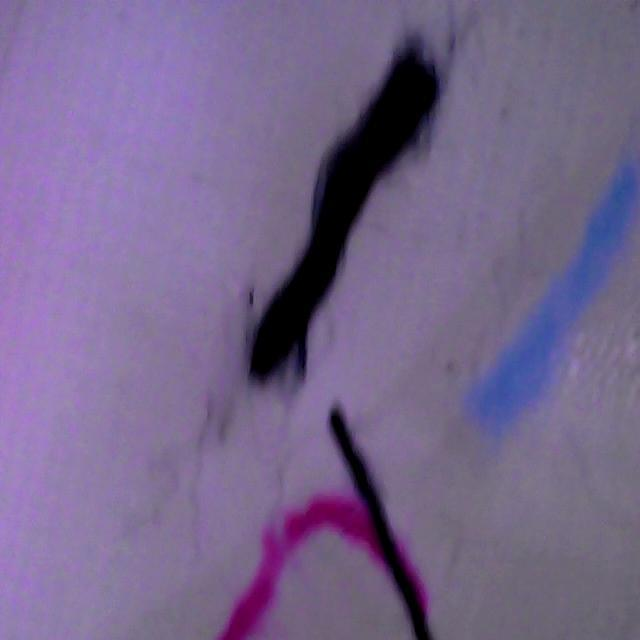fibers: (225, 32, 454, 394), (324, 405, 436, 640), (1, 0, 1, 1)
